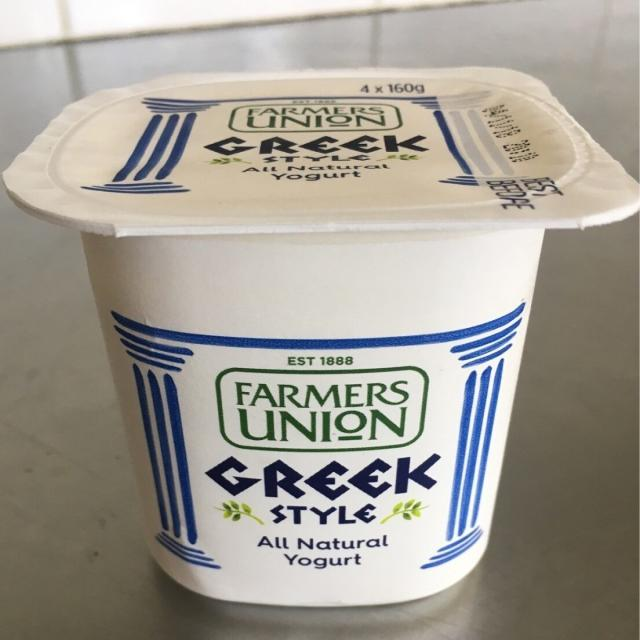plastic: (2, 68, 638, 605)
